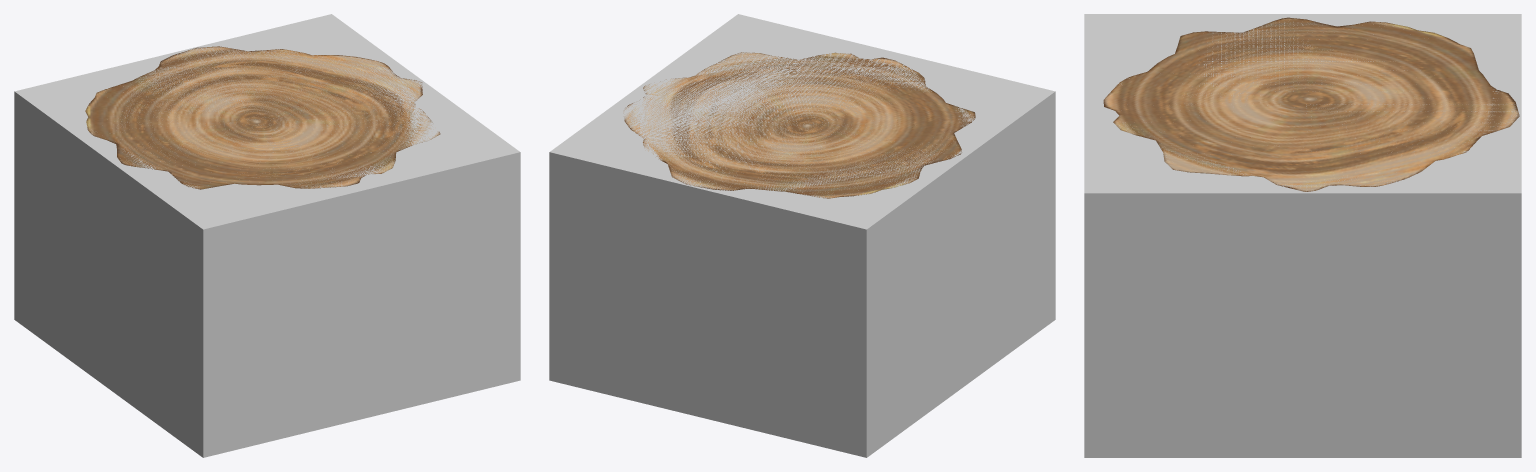
The model's file is Dojo_Display_Round.gltf.
The picture shows the model from 3 angles, left to right: view 1: azimuth 30°, elevation 25°; view 2: azimuth 150°, elevation 25°; view 3: azimuth 270°, elevation 25°; orthographic projection. The views are drawn at different scales.
Visible parts, largest first — view 1: natural_display_table_05_mesh.002_bcol, natural_display_table_05_mesh.002; view 2: natural_display_table_05_mesh.002_bcol, natural_display_table_05_mesh.002; view 3: natural_display_table_05_mesh.002_bcol, natural_display_table_05_mesh.002.
Part boxes in pixels (x1,y1,x2,y2): natural_display_table_05_mesh.002_bcol: (14, 14, 520, 457); natural_display_table_05_mesh.002: (85, 46, 440, 189); natural_display_table_05_mesh.002_bcol: (549, 14, 1055, 457); natural_display_table_05_mesh.002: (624, 52, 975, 198); natural_display_table_05_mesh.002_bcol: (1084, 14, 1521, 457); natural_display_table_05_mesh.002: (1103, 17, 1519, 191).
Bounding box in the file's own units: 1.03 × 0.7078 × 1.06.
1 material, 1 textured.
